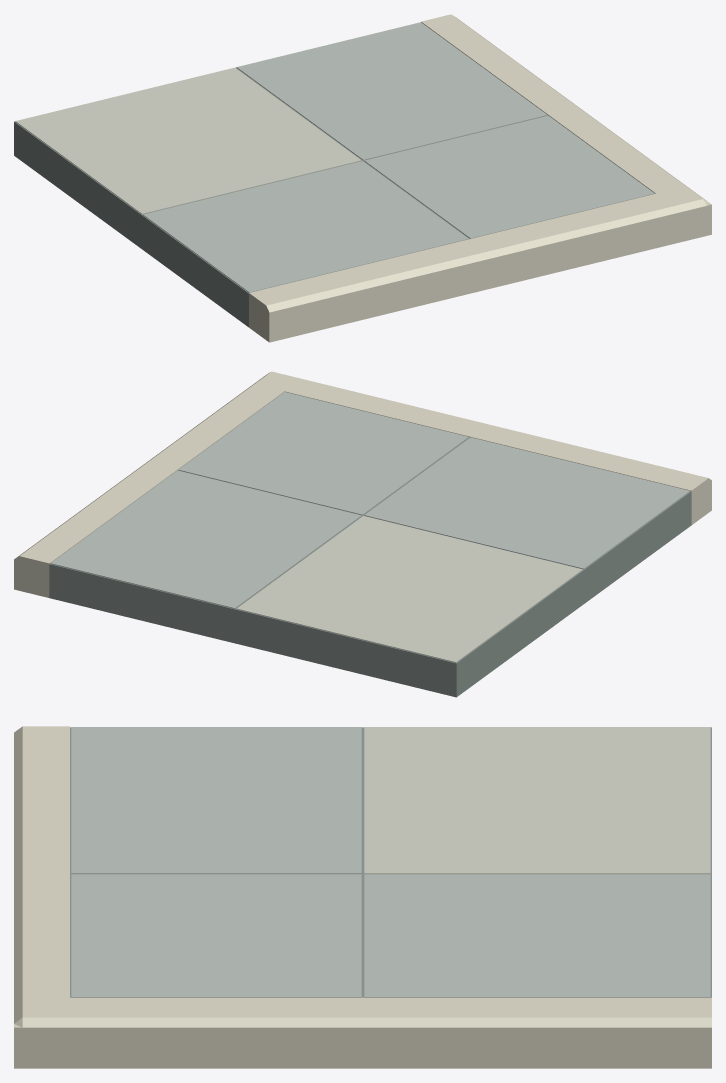
Rendered from sidewalk_end_right.glb.
3 views of the same model, one above another, from view 1: azimuth 30°, elevation 25°; view 2: azimuth 150°, elevation 25°; view 3: azimuth 270°, elevation 25° (orthographic). The views are drawn at different scales.
Parts seen in each view (by area): view 1: sidewalk_end_right; view 2: sidewalk_end_right; view 3: sidewalk_end_right.
Boxes of the visible parts, x1,y1,x2,y2 form: sidewalk_end_right: [14, 14, 711, 342]; sidewalk_end_right: [14, 371, 711, 697]; sidewalk_end_right: [14, 726, 711, 1068].
Bounding box in the file's own units: 2 × 0.15 × 2.
